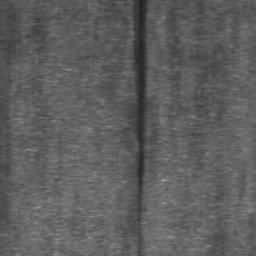Scratches: (133, 0, 148, 256)
